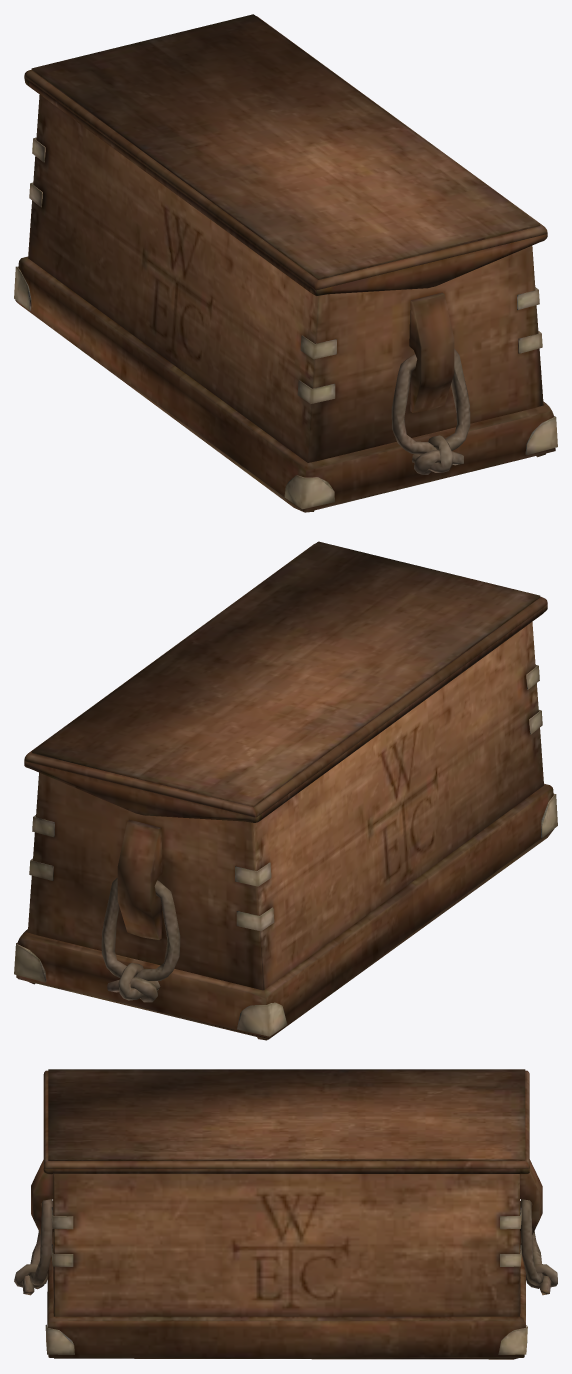
Rendered from scene-crate2.glb.
3 views of the same model, one above another, from view 1: azimuth 30°, elevation 25°; view 2: azimuth 150°, elevation 25°; view 3: azimuth 270°, elevation 25° (orthographic). The views are drawn at different scales.
Visible parts, largest first — view 1: wooden_crate_02_crate; view 2: wooden_crate_02_crate; view 3: wooden_crate_02_crate.
Boxes of the visible parts, left/top/right/bottom form: wooden_crate_02_crate: left=14, top=14, right=557, bottom=512; wooden_crate_02_crate: left=14, top=541, right=557, bottom=1040; wooden_crate_02_crate: left=14, top=1069, right=557, bottom=1359.
Size of the model in its own units: 0.529 by 0.464 by 1.16.
1 material, 1 textured.
